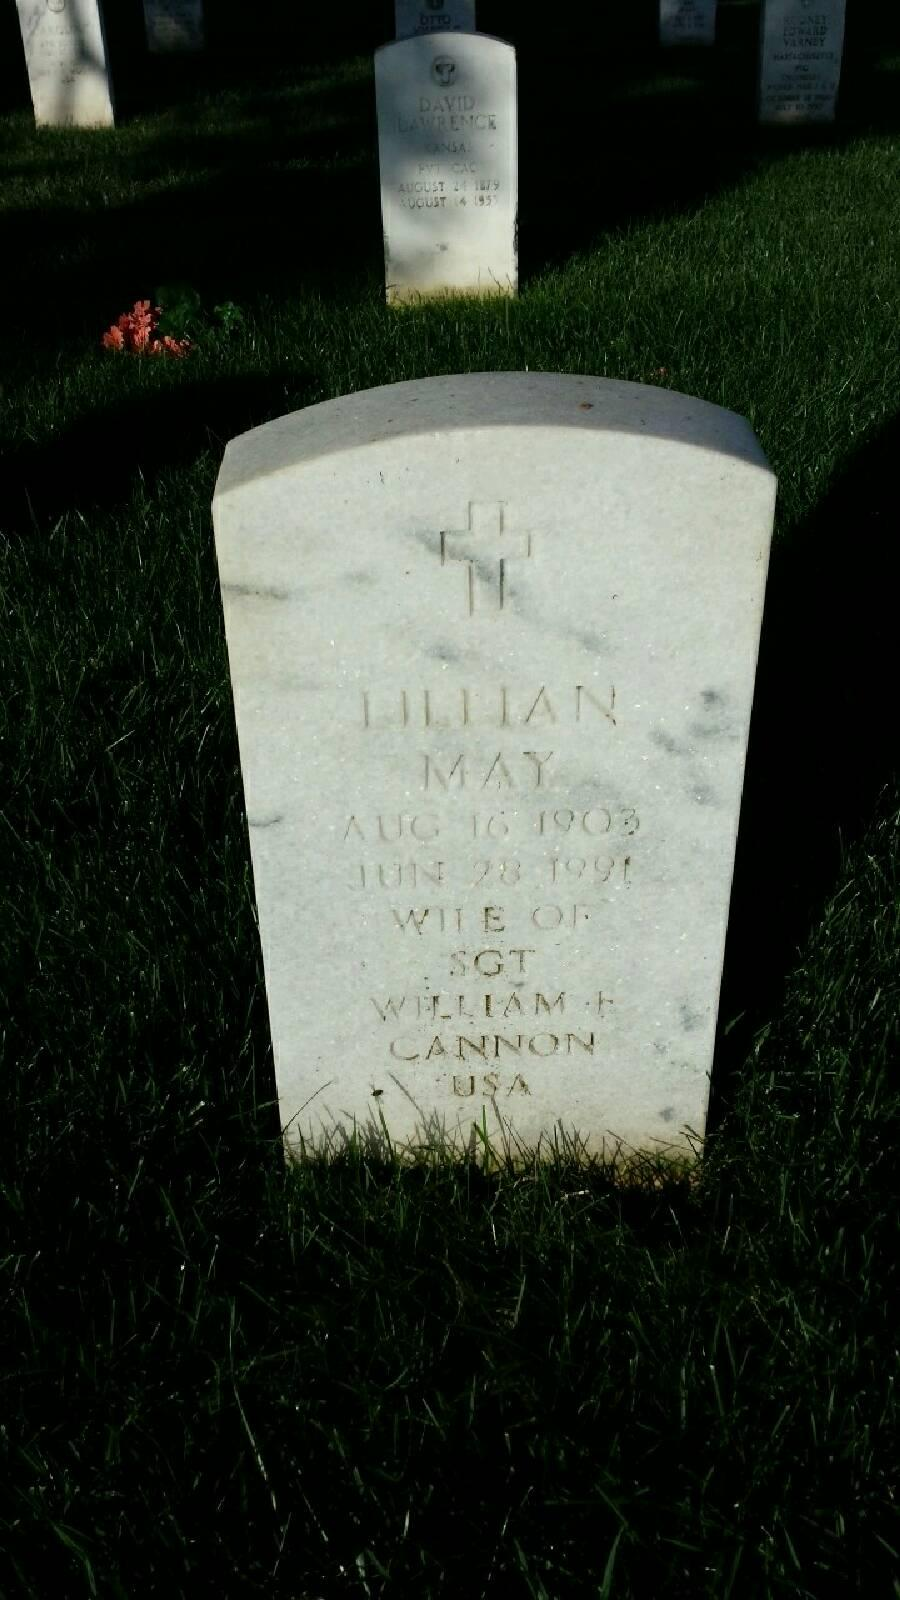military: (169, 349, 824, 1274)
